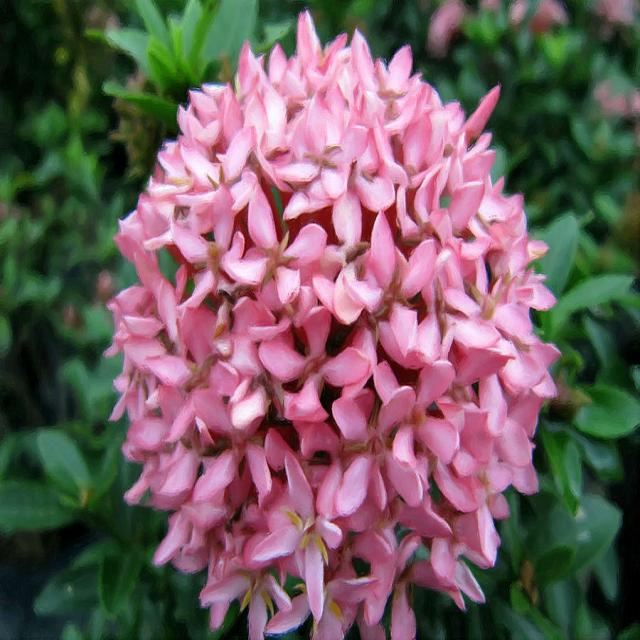Chinese-Ixora: (105, 7, 563, 640)
